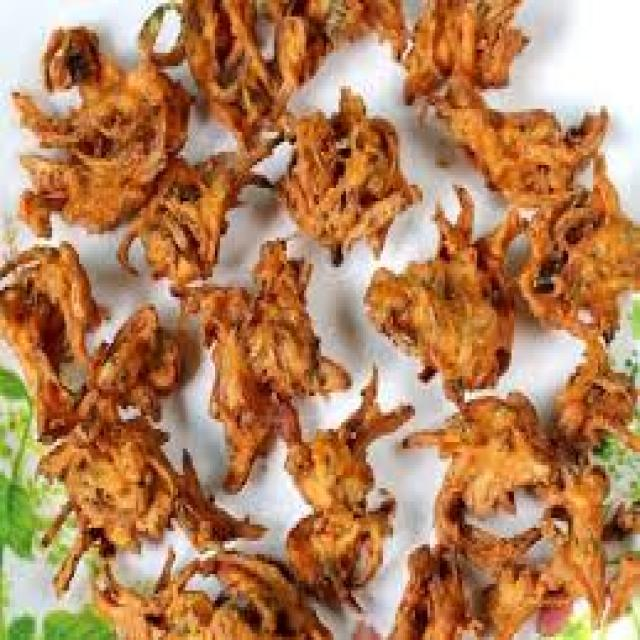BAJI: (21, 259, 222, 560), (179, 265, 346, 465), (18, 37, 186, 227), (165, 2, 396, 130), (403, 503, 628, 628), (377, 188, 505, 378), (295, 404, 415, 598), (410, 394, 549, 529), (526, 184, 638, 344), (275, 112, 410, 242), (440, 101, 609, 201), (149, 141, 261, 283), (401, 0, 519, 112)
